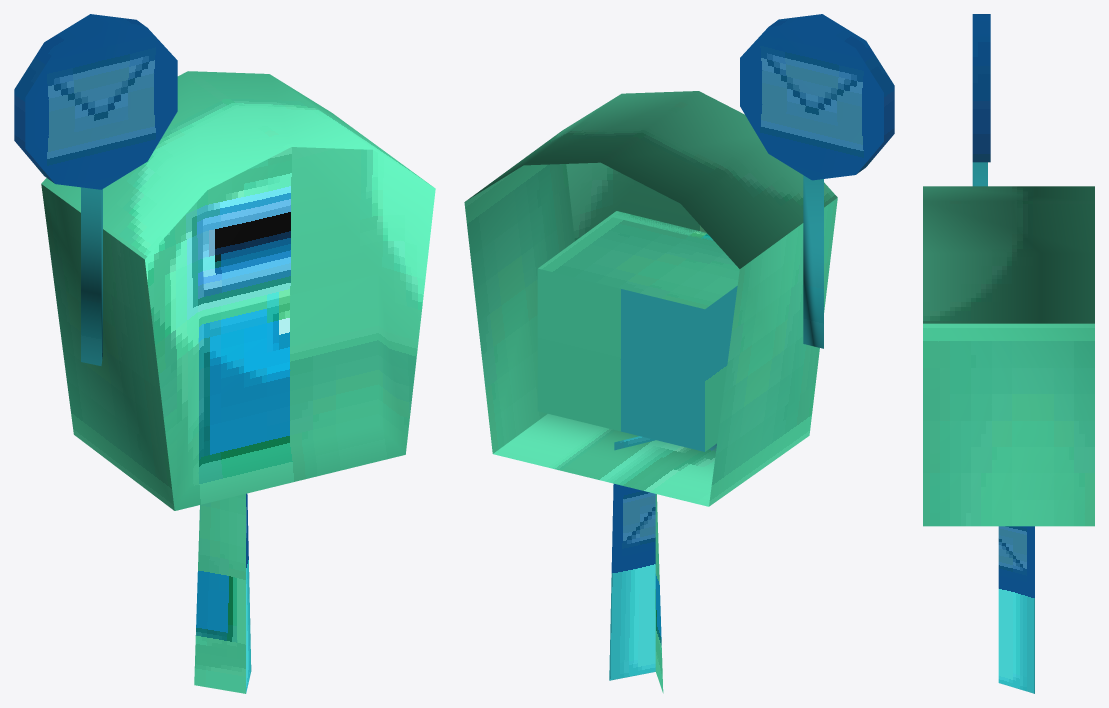
The model's file is int_post_E01.dae.
The picture shows the model from 3 angles, left to right: view 1: azimuth 30°, elevation 25°; view 2: azimuth 150°, elevation 25°; view 3: azimuth 270°, elevation 25°; orthographic projection. The views are drawn at different scales.
Parts seen in each view (by area): view 1: int_post_E01; view 2: int_post_E01; view 3: int_post_E01.
Boxes of the visible parts, x1=… form: int_post_E01: x1=14, y1=14, x2=435, y2=693; int_post_E01: x1=464, y1=14, x2=894, y2=693; int_post_E01: x1=923, y1=14, x2=1094, y2=693.
Size of the model in its own units: 26.26 by 47.64 by 12.38.
Materials: 1 (1 with a texture image).
